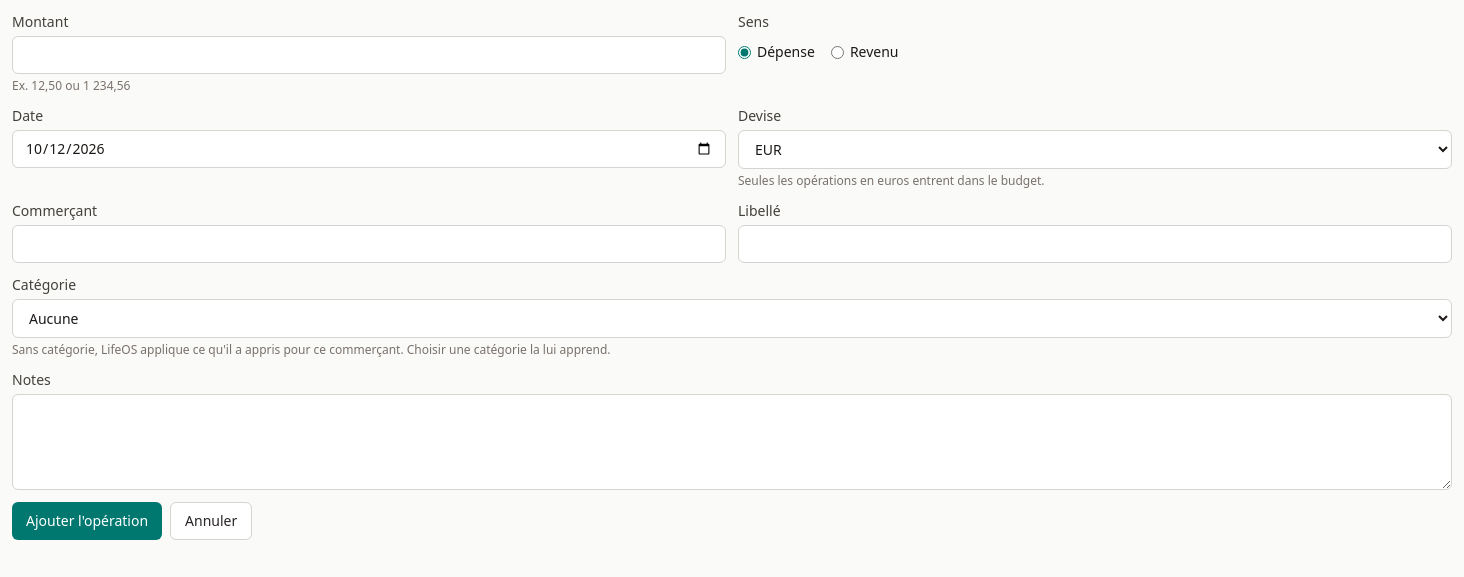
Test case: TransactionForm › explains invalid values in French and sends nothing
The width and height of the screenshot is (1464, 577).
Type "12,345" into the field labelled "Montant".
click(369, 55); type("12,345")  # box [12,36,726,74]
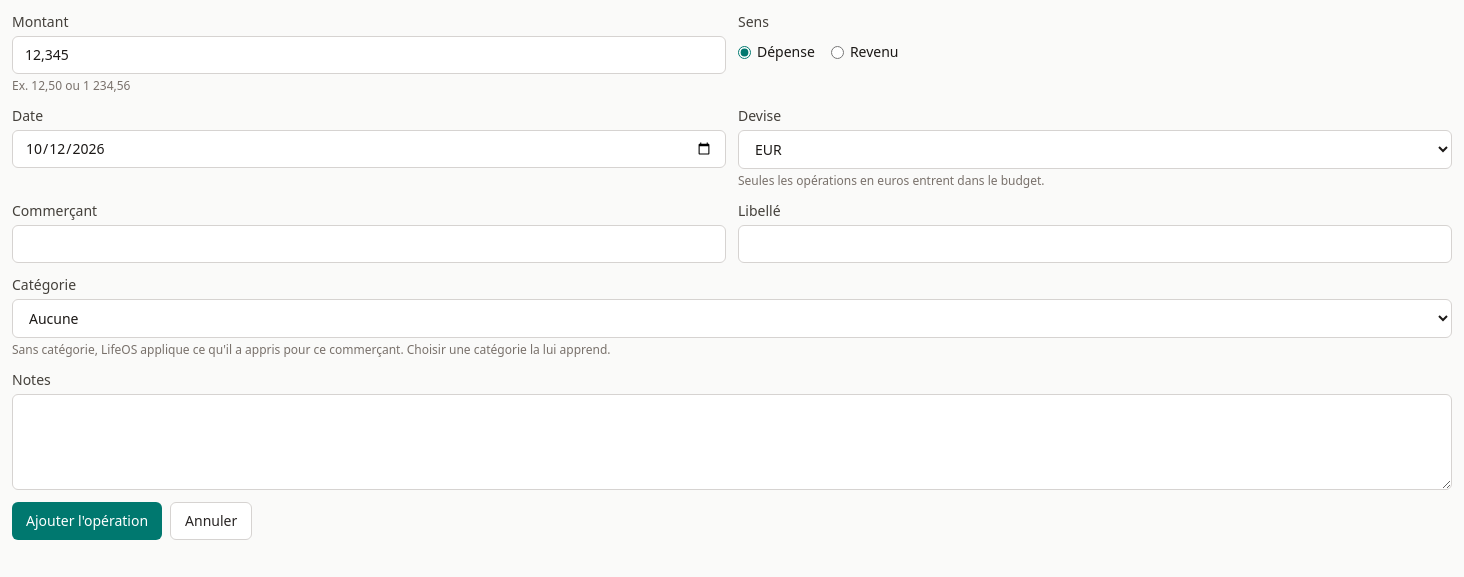
Type "2026-10-13" into the date field labelled "Date".
click(369, 149); type("2026-10-13")  # box [12,130,726,168]
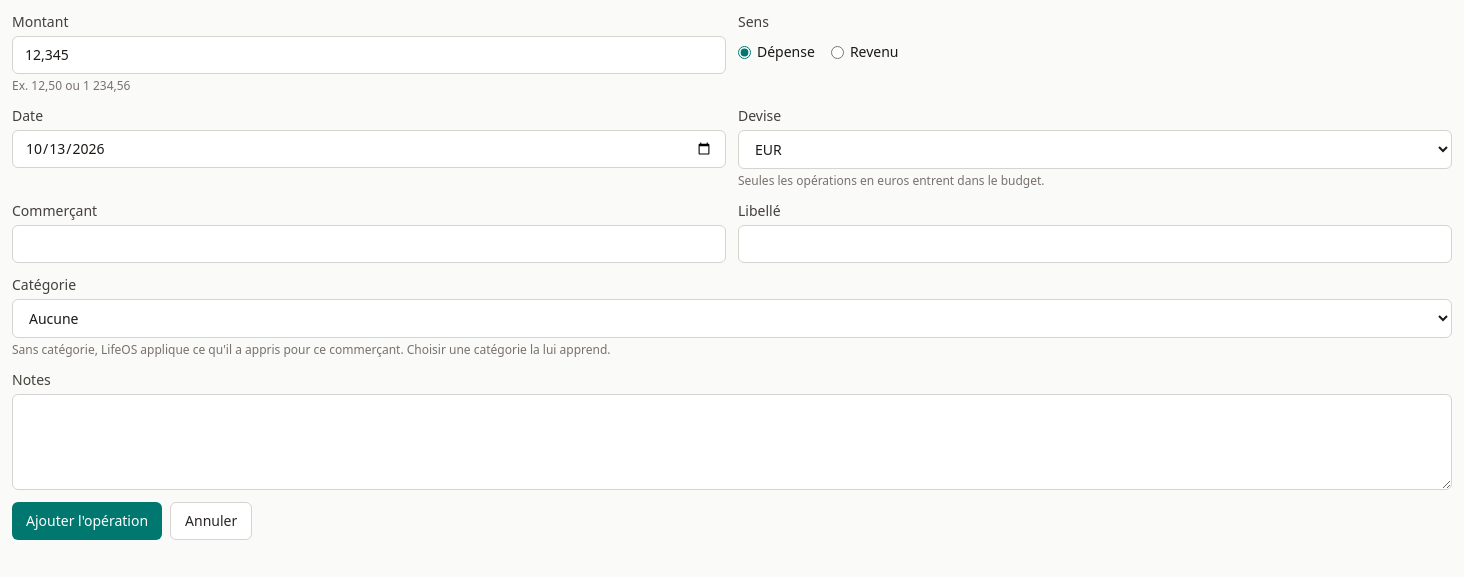
Click the button "Ajouter l'opération".
click(87, 521)  # box [12,502,162,540]
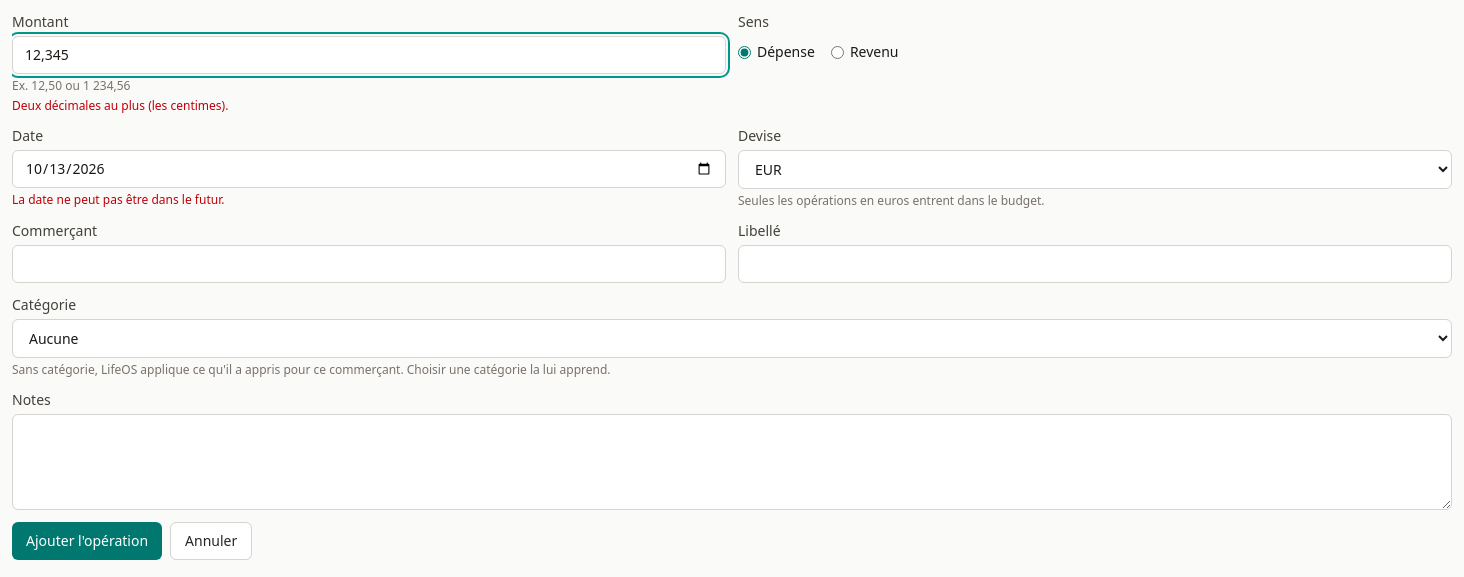
Now the text "Deux décimales au plus (les centimes)." is shown, box [12,97,228,114]
Now the text "La date ne peut pas être dans le futur." is shown, box [12,191,224,208]
Correcting the field clears its message.
Replace the text in the field labelled "Montant" with "12,34" at coordinates (369, 55), box [12,36,726,74]
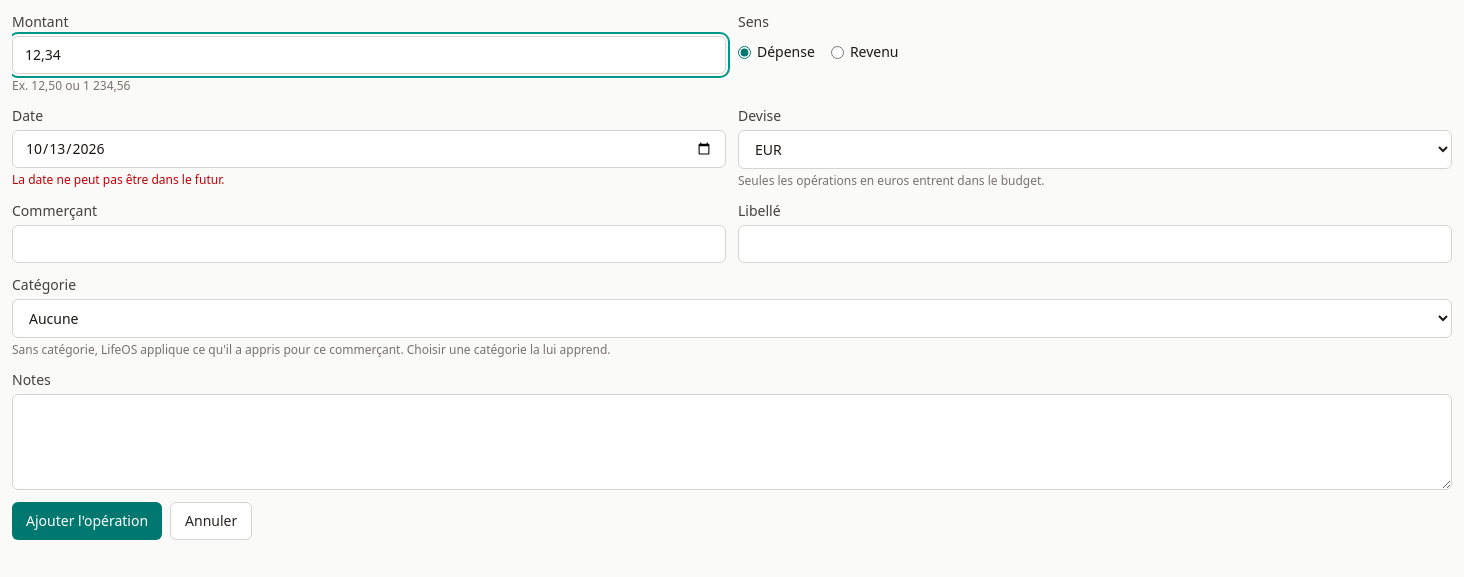
Now the text "Deux décimales au plus (les centimes)." is gone
